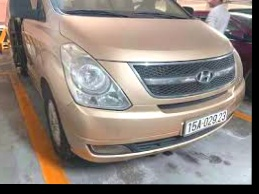Bien-so: (195, 113, 237, 142)
